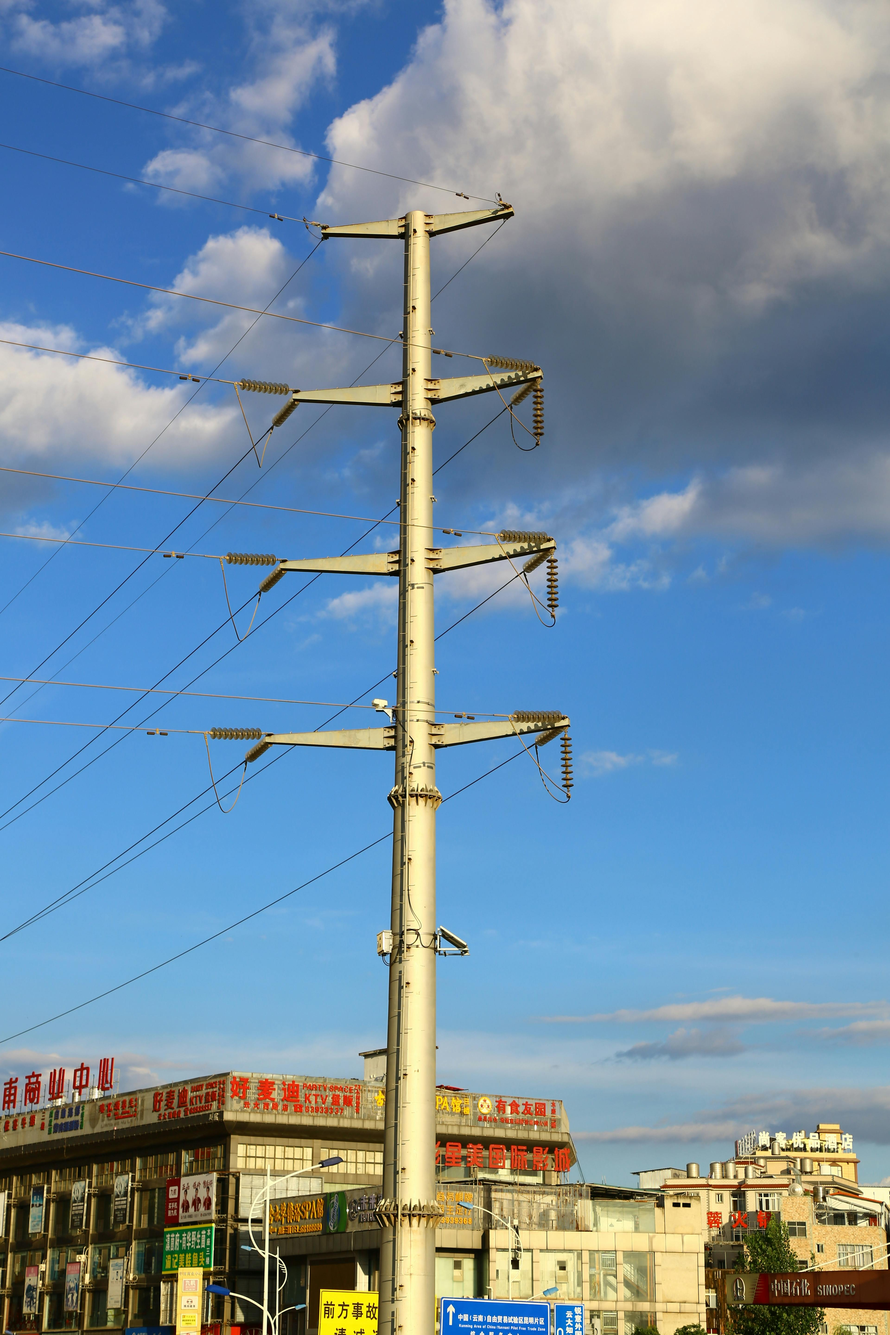insulator: (212, 544, 296, 575), (217, 377, 304, 399), (540, 550, 568, 618), (554, 720, 577, 799), (526, 368, 549, 445), (503, 705, 574, 728), (203, 722, 271, 745), (486, 525, 560, 545), (481, 360, 538, 372)
